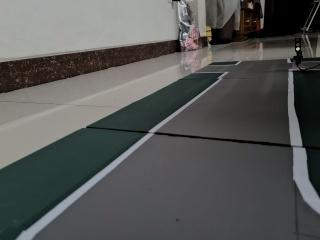green: (289, 29, 307, 60)
